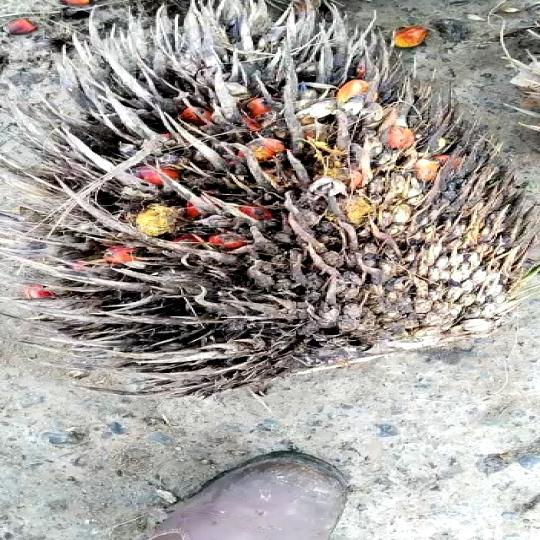terlalu masak: (0, 0, 540, 392)
